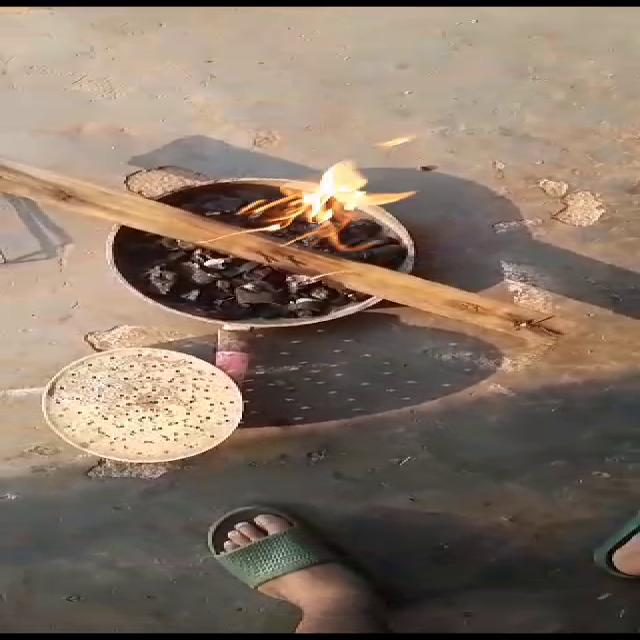Fire: (235, 154, 422, 257)
